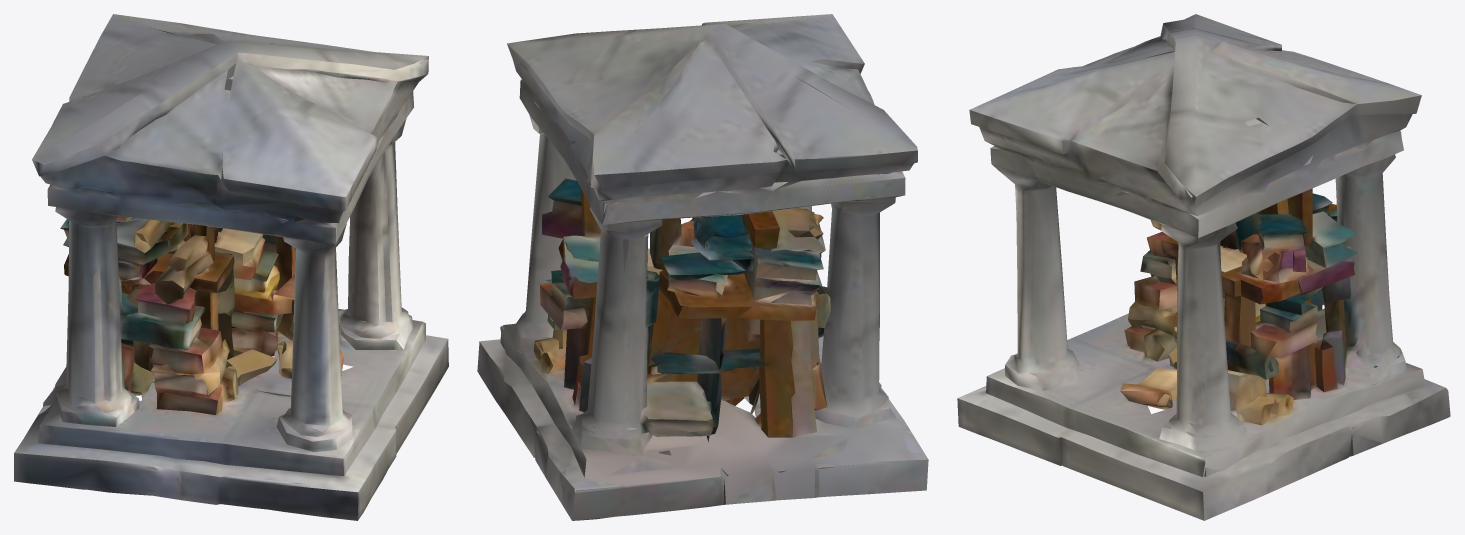
The model's file is greatLibrary.glb.
3 views of the same model, side by side, from view 1: azimuth 30°, elevation 25°; view 2: azimuth 150°, elevation 25°; view 3: azimuth 270°, elevation 25° (orthographic). The views are drawn at different scales.
Visible parts, largest first — view 1: RETOPO; view 2: RETOPO; view 3: RETOPO.
Part boxes in pixels (bbox=[...]): RETOPO: bbox=[14, 14, 448, 520]; RETOPO: bbox=[477, 14, 928, 520]; RETOPO: bbox=[957, 14, 1450, 520].
Size of the model in its own units: 0.8792 by 0.7675 by 0.8823.
Materials: 1 (1 with a texture image).
